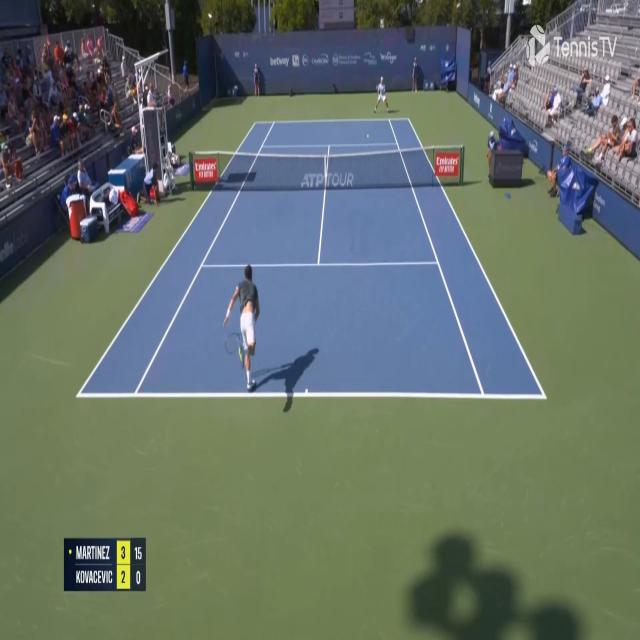tennis-player: (223, 260, 264, 393), (373, 75, 391, 116)
